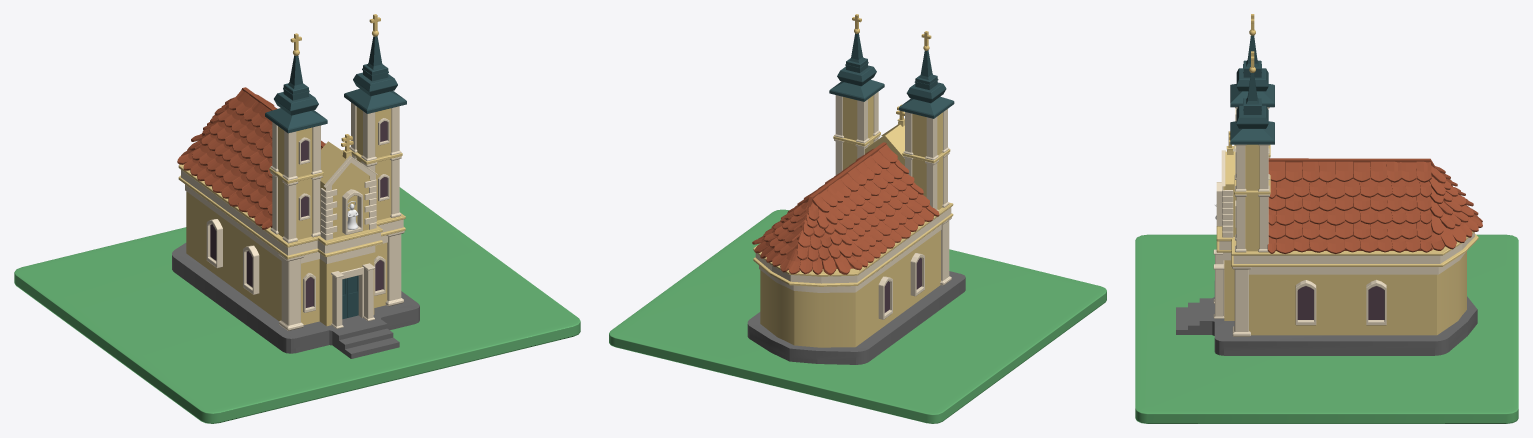
File: church.glb
3 renders of one model, left to right at view 1: azimuth 30°, elevation 25°; view 2: azimuth 150°, elevation 25°; view 3: azimuth 270°, elevation 25°, orthographic. The views are drawn at different scales.
Visible parts, largest first — view 1: Cube.051, Wall, Cube.003, Cube.001, Cube.002, Cube.039, Cube.035, Cube.013, Cube.032, Cube.031, Cube.042, Cube.048 (+6 smaller); view 2: Cube.051, Wall, Cube.003, Cube.001, Cube.033, Cube.034, Cube.037, Cube.002, Cube.049, Cube.048, Cube.039, Cube.045; view 3: Cube.051, Wall, Cube.003, Cube.001, Cube.039, Cube.048, Cube.049, Cube.045, Cube.002, Cube.013, Cube.035, Cube.037 (+3 smaller).
Boxes of the visible parts, x1,y1,x2,y2 form: Cube.051: (14,187,580,423); Wall: (172,184,419,358); Cube.003: (265,36,406,239); Cube.001: (178,164,405,259); Cube.002: (320,141,377,238); Cube.039: (278,231,404,330); Cube.035: (282,156,401,243); Cube.013: (331,263,375,328); Cube.032: (311,111,376,174); Cube.031: (282,106,401,180); Cube.042: (303,255,385,312); Cube.048: (243,245,259,294); Cube.051: (609,209,1106,423); Wall: (747,224,965,364); Cube.003: (829,33,954,209); Cube.001: (753,202,953,286); Cube.033: (834,95,938,160); Cube.034: (856,99,913,154); Cube.037: (834,139,938,211); Cube.002: (864,124,904,165); Cube.049: (878,276,892,319); Cube.048: (910,253,924,296); Cube.039: (940,217,951,285); Cube.045: (796,142,886,248); Cube.051: (1135,234,1518,423); Wall: (1176,250,1477,355); Cube.003: (1230,35,1274,251); Cube.001: (1216,226,1478,266); Cube.039: (1232,267,1251,336); Cube.048: (1295,280,1316,325); Cube.049: (1366,280,1386,325); Cube.045: (1268,158,1435,168); Cube.002: (1221,150,1236,236); Cube.013: (1213,249,1224,318); Cube.035: (1235,194,1246,252); Cube.037: (1258,194,1269,252).
Size of the model in its own units: 23.6 by 18.59 by 21.42.
